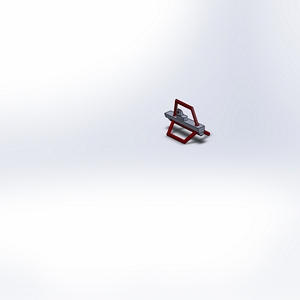submarine: (148, 95, 240, 161)
